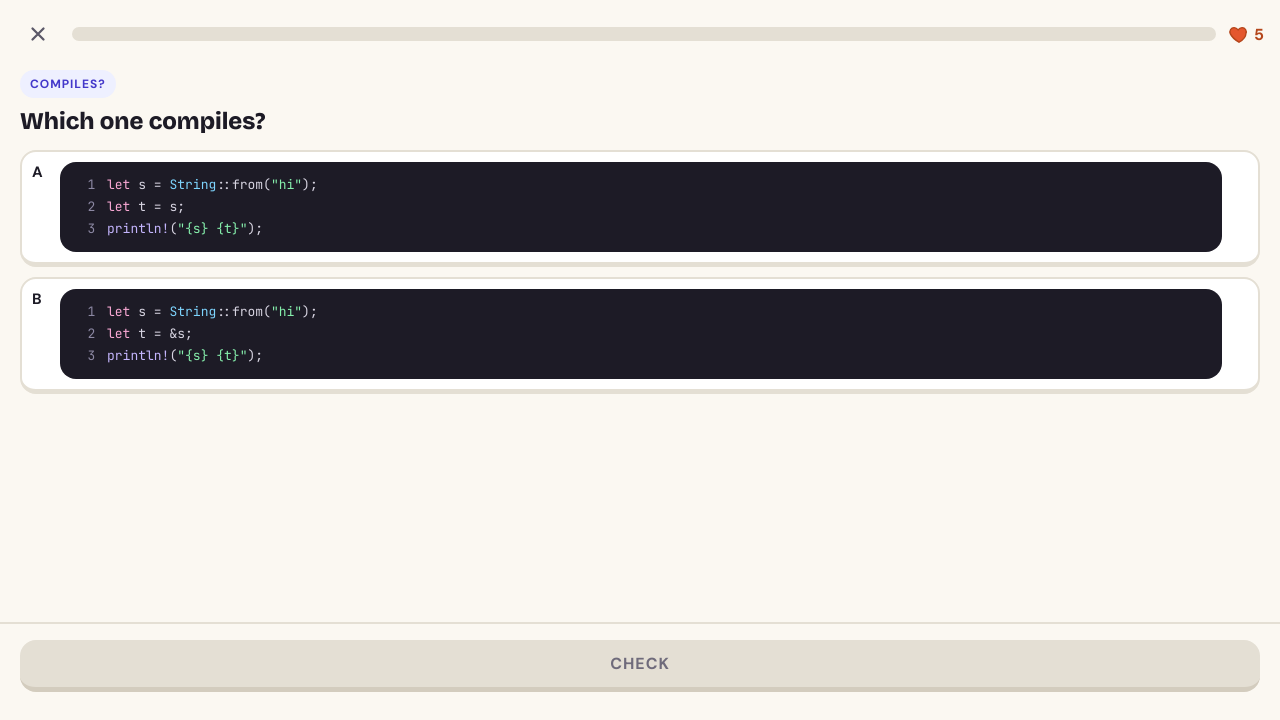
Test case: Compiles? (Rust) › describes each snippet by its code, grades the pick and shows rustc’s message
Click the button with aria-label "Snippet A" at (640, 208), box [20, 150, 1260, 267]
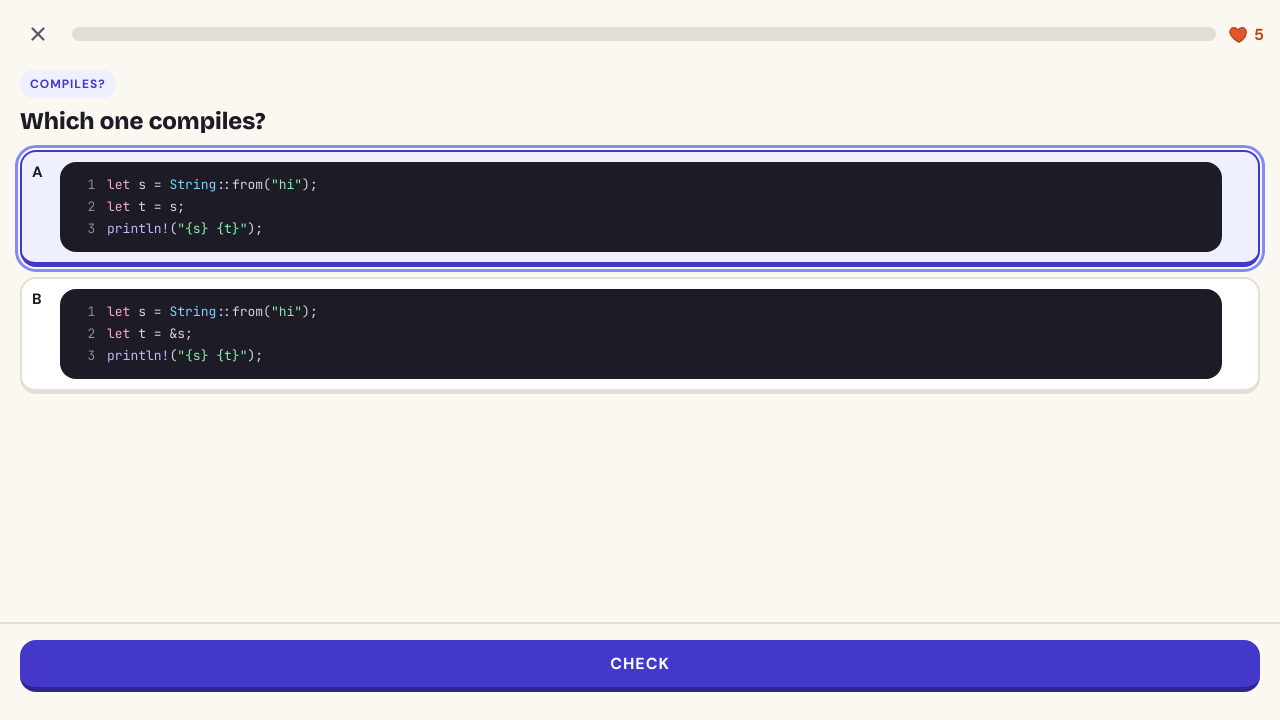
Result: the button with aria-label "Snippet A" is pressed at [20, 150, 1260, 267]
Click the button "Check" at (640, 666), box [20, 640, 1260, 692]
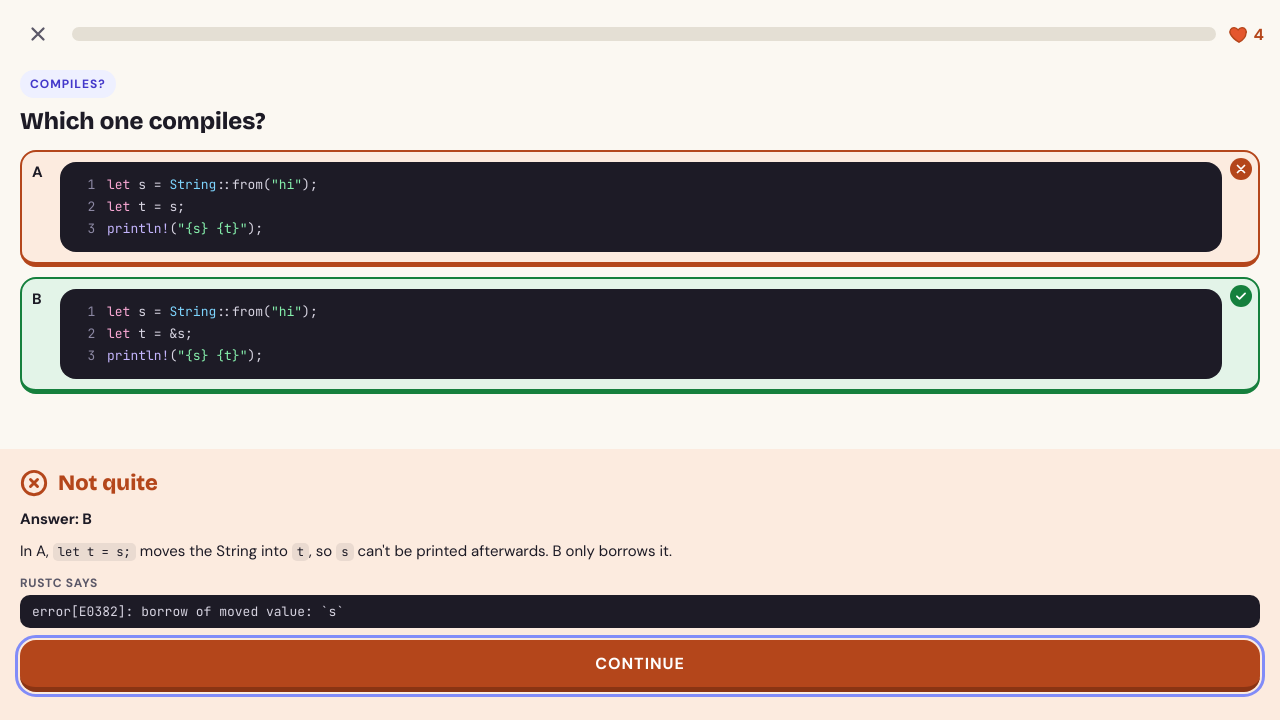
Result: the element named "Feedback" shows "Answer: B" at [20, 509, 92, 529]
Result: the element named "Feedback" shows "rustc says" at [0, 449, 1279, 719]
Result: the element named "Feedback" shows "error[E0382]: borrow of moved value: `s`" at [32, 603, 344, 620]
